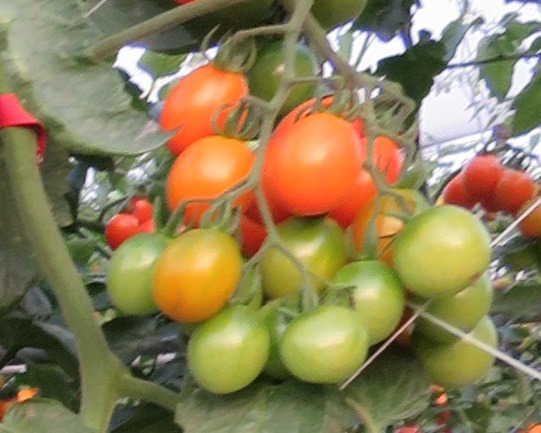green: (393, 201, 494, 292), (182, 303, 274, 395), (282, 303, 372, 389), (264, 218, 349, 298), (103, 228, 156, 318), (412, 336, 505, 386), (333, 258, 408, 316)
orange: (266, 112, 361, 219), (153, 225, 246, 329), (166, 138, 261, 223), (161, 69, 252, 150), (461, 153, 502, 202), (495, 166, 535, 211)
